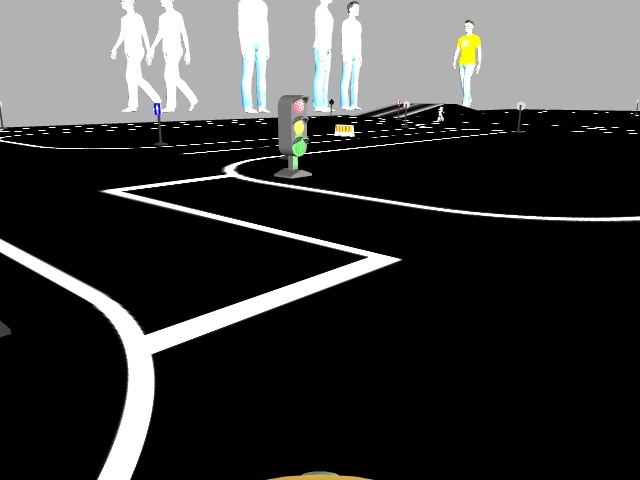ClosedRoadStand: (334, 124, 353, 136)
TrafficLight: (277, 96, 307, 156)
